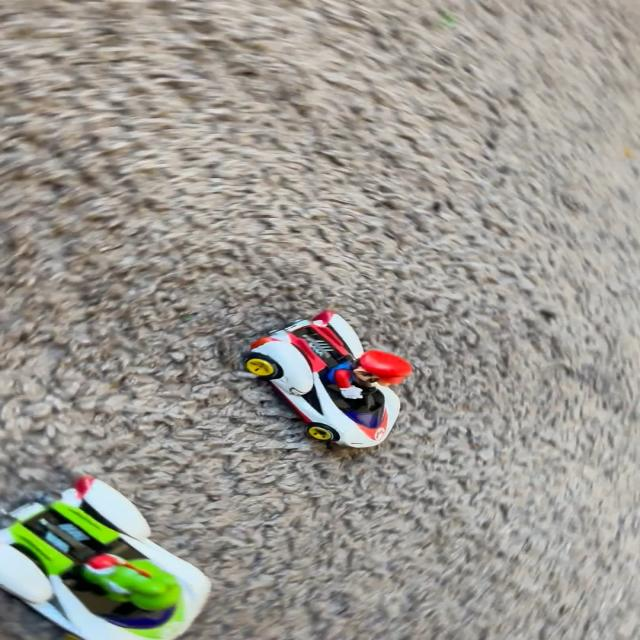mario: (224, 296, 426, 464)
yoshi: (0, 467, 236, 640)
